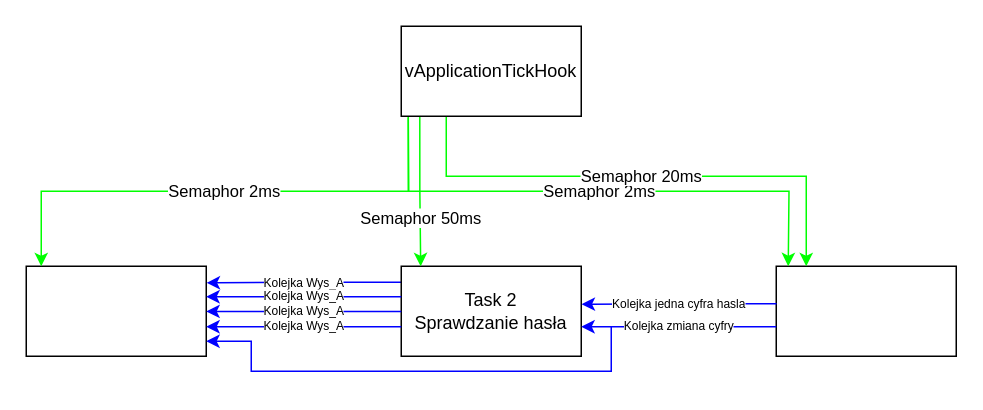
The diagram is 983 pixels wide and 410 high, and some of its shapes have lost their labels. The centre of each missing label's shape, as x and y in pixels:
Task 1 Wyświetlacz: point 115,310
Task 3 Enkoder: point 865,310
